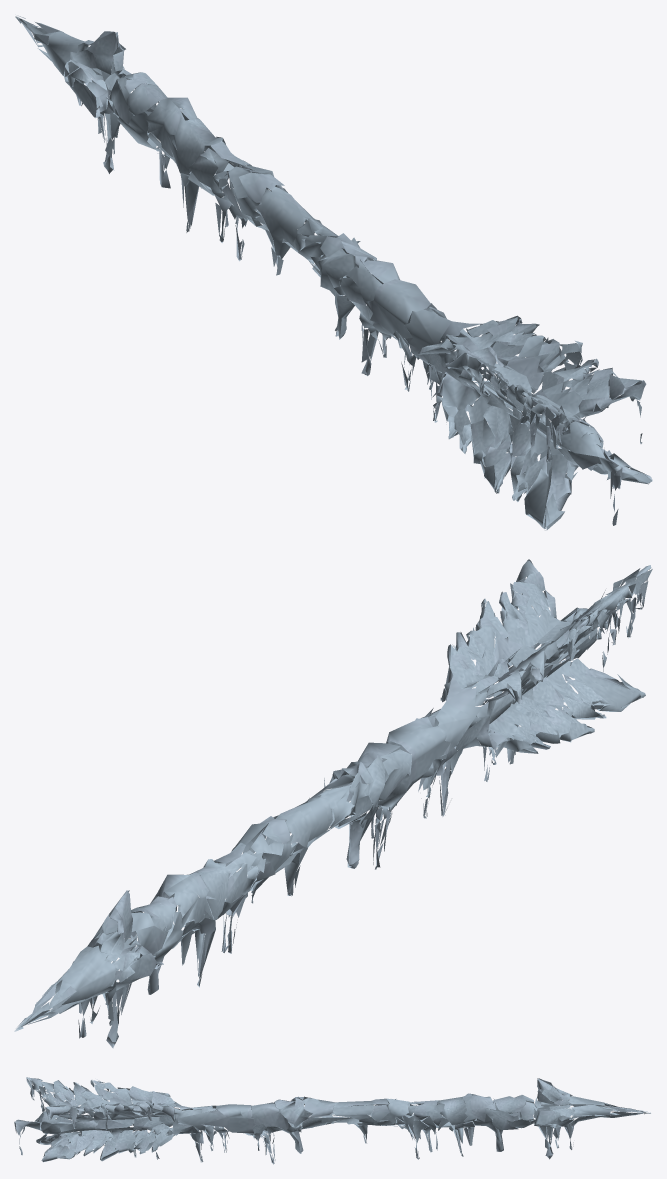
File: icicle.glb
The picture shows the model from 3 angles, top to bottom: view 1: azimuth 30°, elevation 25°; view 2: azimuth 150°, elevation 25°; view 3: azimuth 270°, elevation 25°; orthographic projection. The views are drawn at different scales.
Visible parts, largest first — view 1: Mesh_0; view 2: Mesh_0; view 3: Mesh_0.
Boxes of the visible parts, <box> form: Mesh_0: <box>15,15,652,530</box>; Mesh_0: <box>14,559,652,1048</box>; Mesh_0: <box>14,1077,650,1164</box>.
Size of the model in its own units: 0.1106 by 0.1487 by 1.
Materials: 1 (1 with a texture image).
